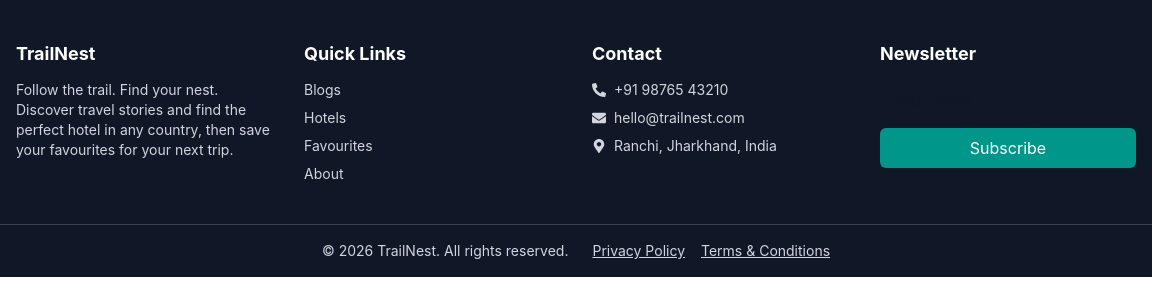
Test: Footer newsletter › asks for an email when the field is empty
Click the button "Subscribe" at [1008, 148], box [880,128,1136,168]
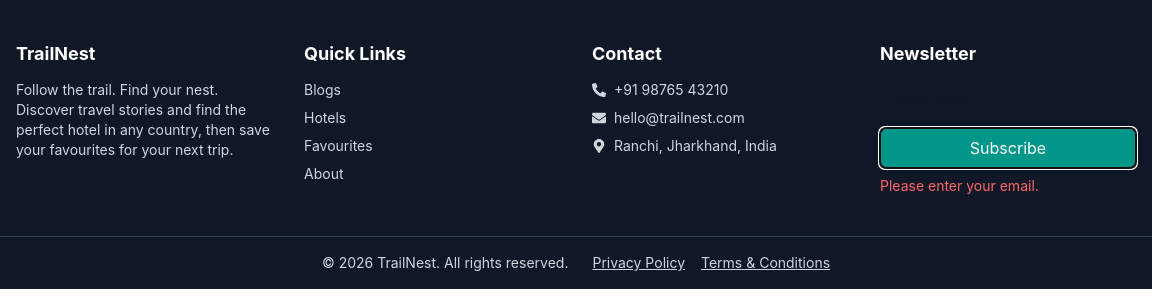
Now the text "Please enter your email." is shown, box [880,177,1039,194]
